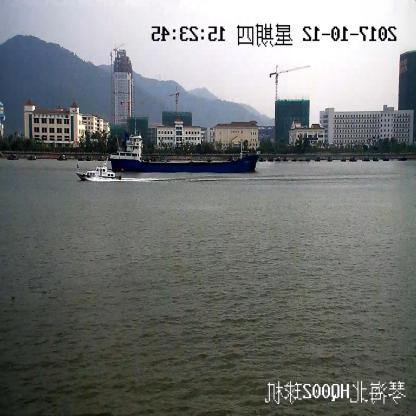Bulk Carrier: (112, 123, 260, 172)
